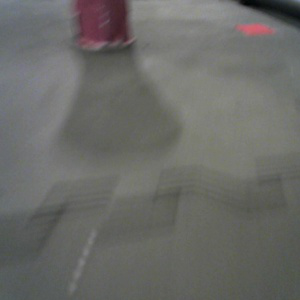Middle: (75, 1, 137, 53)
